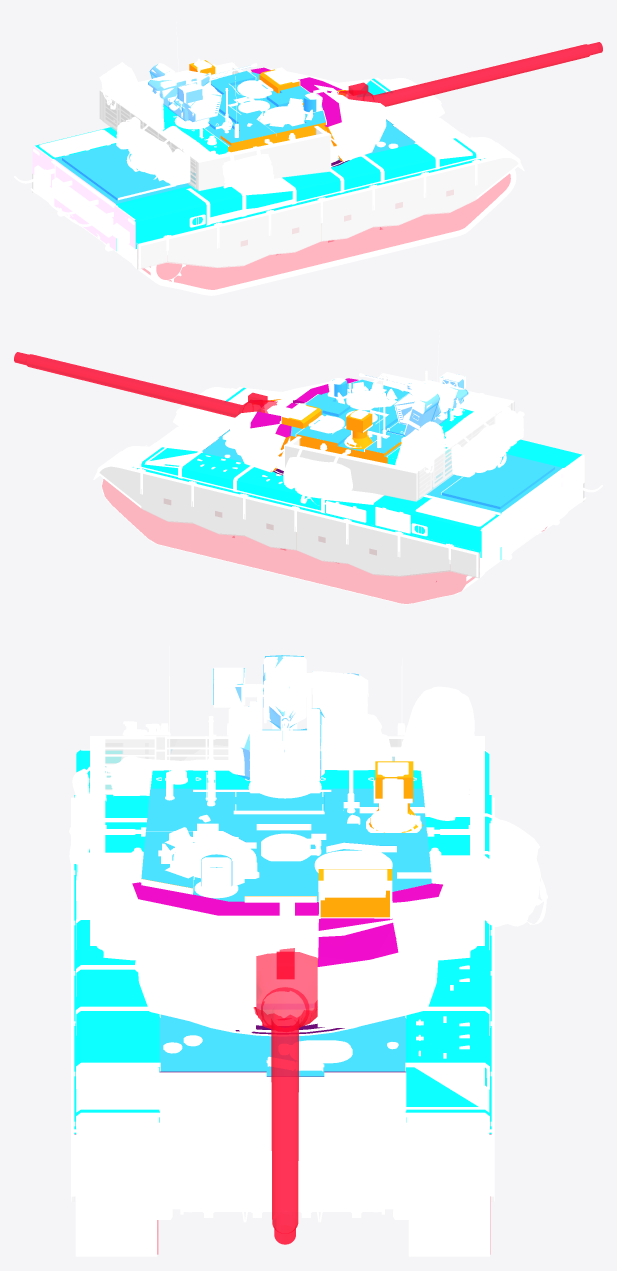
File: ZTZ99.gltf
The picture shows the model from 3 angles, top to bottom: view 1: azimuth 30°, elevation 25°; view 2: azimuth 150°, elevation 25°; view 3: azimuth 270°, elevation 25°; orthographic projection. The views are drawn at different scales.
Parts seen in each view (by area): view 1: 14, ZTZ99_Hull_SideSkirt_Col2_11, 14_6, ZTZ99_Hull_Col001_2, 14_4, ZTZ99_Tracks_Col_Right_2, 14_3, ZTZ99_Turret_col_spaced_48, ZTZ99_Hull_Col001_1, ZTZ99_Gun_Col_14, ZTZ99_Turret_col001_2, 14_5 (+6 smaller); view 2: 14, ZTZ99_Hull_SideSkirt_Col_8, 14_6, ZTZ99_Tracks_Col_Left_5, ZTZ99_Hull_Col001_2, 14_4, 14_2, ZTZ99_Hull_Col001_1, ZTZ99_Turret_col_spaced_48, ZTZ99_Gun_Col_14, ZTZ99_Turret_col001_2, 14_5 (+5 smaller); view 3: 14, 14_6, ZTZ99_Hull_Col001_2, 14_4, 14_5, ZTZ99_Turret_col001_2, ZTZ99_Gun_Col_14, ZTZ99_Hull_Col001_1, ZTZ99_Turret_col001_3, 14_3, 14_2, ZTZ99_Turret_col_spaced_48 (+2 smaller).
Boxes of the visible parts, left/top/right/bottom form: 14: left=14, top=77, right=524, bottom=287; ZTZ99_Hull_SideSkirt_Col2_11: left=137, top=158, right=518, bottom=269; 14_6: left=100, top=17, right=386, bottom=190; ZTZ99_Hull_Col001_2: left=35, top=78, right=484, bottom=250; 14_4: left=99, top=62, right=274, bottom=188; ZTZ99_Tracks_Col_Right_2: left=142, top=174, right=510, bottom=289; 14_3: left=132, top=169, right=516, bottom=295; ZTZ99_Turret_col_spaced_48: left=99, top=68, right=330, bottom=190; ZTZ99_Hull_Col001_1: left=54, top=119, right=415, bottom=203; ZTZ99_Gun_Col_14: left=338, top=42, right=602, bottom=106; ZTZ99_Turret_col001_2: left=205, top=71, right=339, bottom=160; 14_5: left=148, top=63, right=257, bottom=129; 14: left=93, top=387, right=602, bottom=596; ZTZ99_Hull_SideSkirt_Col_8: left=99, top=466, right=479, bottom=578; 14_6: left=229, top=330, right=514, bottom=500; ZTZ99_Tracks_Col_Left_5: left=102, top=479, right=474, bottom=603; ZTZ99_Hull_Col001_2: left=132, top=387, right=581, bottom=559; 14_4: left=283, top=393, right=524, bottom=505; 14_2: left=101, top=478, right=484, bottom=604; ZTZ99_Hull_Col001_1: left=202, top=409, right=562, bottom=512; ZTZ99_Turret_col_spaced_48: left=285, top=378, right=514, bottom=501; ZTZ99_Gun_Col_14: left=14, top=352, right=277, bottom=417; ZTZ99_Turret_col001_2: left=290, top=379, right=451, bottom=456; 14_5: left=359, top=372, right=467, bottom=435; 14: left=71, top=723, right=494, bottom=1222; 14_6: left=90, top=645, right=484, bottom=1033; ZTZ99_Hull_Col001_2: left=74, top=750, right=491, bottom=1133; 14_4: left=69, top=686, right=547, bottom=926; 14_5: left=213, top=656, right=368, bottom=798; ZTZ99_Turret_col001_2: left=141, top=788, right=431, bottom=901; ZTZ99_Gun_Col_14: left=253, top=948, right=317, bottom=1244; ZTZ99_Hull_Col001_1: left=159, top=749, right=405, bottom=1076; ZTZ99_Turret_col001_3: left=132, top=882, right=442, bottom=966; 14_3: left=75, top=1196, right=157, bottom=1256; 14_2: left=408, top=1196, right=489, bottom=1256; ZTZ99_Turret_col_spaced_48: left=101, top=735, right=469, bottom=794.
Size of the model in its own units: 11.32 by 4.11 by 4.23.
